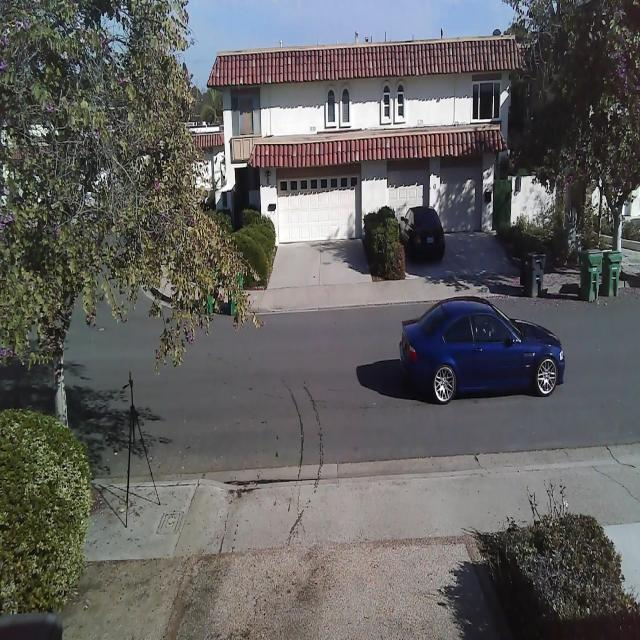Carbeetle: (394, 288, 568, 409)
Civilian: (397, 206, 445, 264)
